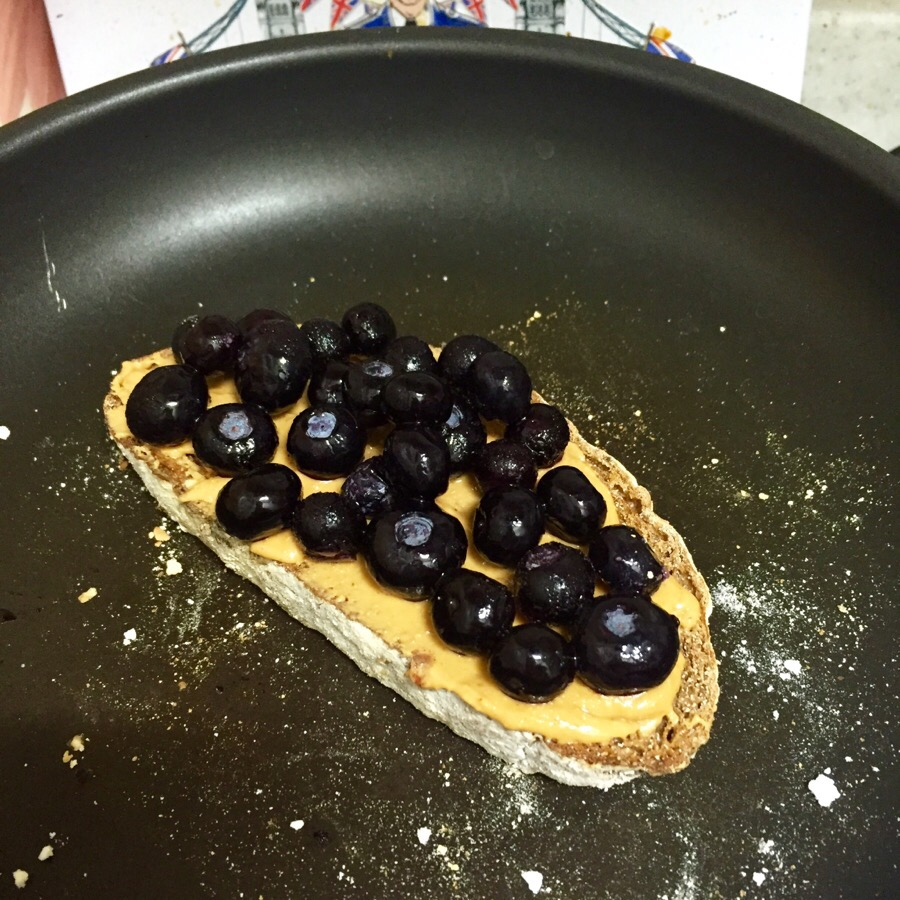slice of bread: (100, 325, 721, 791)
